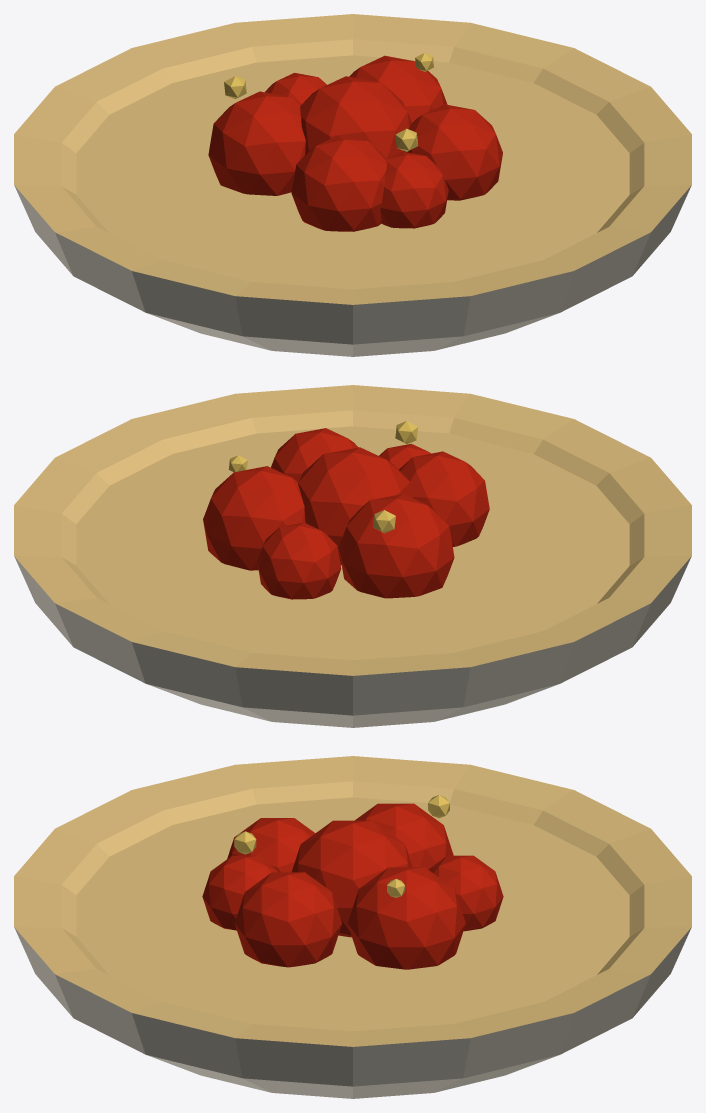
File: Ember_Bowl.glb
3 renders of one model, top to bottom at view 1: azimuth 30°, elevation 25°; view 2: azimuth 150°, elevation 25°; view 3: azimuth 270°, elevation 25°, orthographic.
Visible parts, largest first — view 1: _I_EmberBowl; view 2: _I_EmberBowl; view 3: _I_EmberBowl.
Boxes of the visible parts, bbox=[...] form: _I_EmberBowl: bbox=[14, 14, 691, 356]; _I_EmberBowl: bbox=[14, 385, 691, 727]; _I_EmberBowl: bbox=[14, 756, 691, 1098].
Size of the model in its own units: 0.64 by 0.2 by 0.6303.
